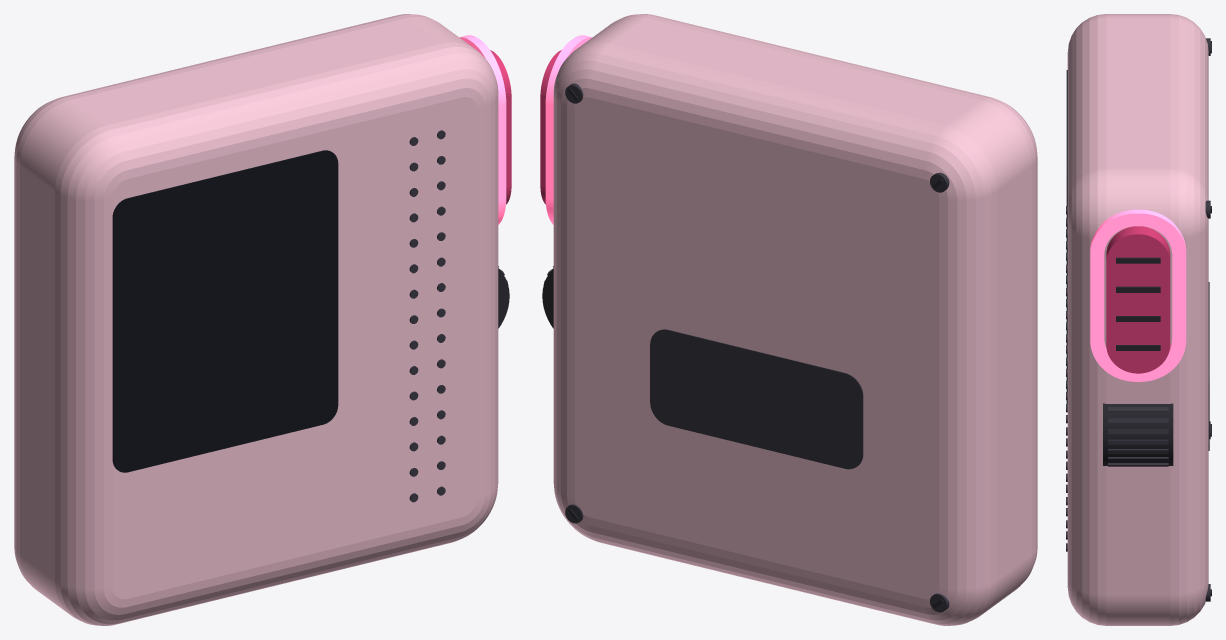
File: yoyopod-v2-bubblegum.glb
The picture shows the model from 3 angles, left to right: view 1: azimuth 30°, elevation 25°; view 2: azimuth 150°, elevation 25°; view 3: azimuth 270°, elevation 25°; orthographic projection. The views are drawn at different scales.
Visible parts, largest first — view 1: body, screen_window, ptt_glow_ring, ptt_cap; view 2: body, name_tag_recess, ptt_glow_ring, ptt_cap; view 3: body, ptt_cap, ptt_glow_ring, wheel_tire, ptt, screen_window, knurl_0, name_tag_recess, knurl_1, knurl_2, knurl_3, knurl_24 (+2 smaller).
Boxes of the visible parts, box(x1,y1,x2,y2) form: body: box(14, 14, 498, 625); screen_window: box(112, 150, 338, 472); ptt_glow_ring: box(459, 35, 506, 224); ptt_cap: box(490, 50, 511, 204); body: box(553, 14, 1037, 625); name_tag_recess: box(650, 329, 863, 469); ptt_glow_ring: box(545, 35, 592, 224); ptt_cap: box(540, 50, 561, 204); body: box(1067, 14, 1208, 625); ptt_cap: box(1106, 226, 1170, 373); ptt_glow_ring: box(1090, 209, 1186, 381); wheel_tire: box(1103, 403, 1173, 465); ptt: box(1116, 257, 1160, 350); screen_window: box(1066, 70, 1067, 403); knurl_0: box(1108, 439, 1168, 444); name_tag_recess: box(1208, 282, 1209, 450); knurl_1: box(1108, 429, 1168, 433); knurl_2: box(1108, 418, 1168, 422); knurl_3: box(1108, 407, 1168, 411); knurl_24: box(1108, 457, 1168, 461).
Size of the model in its own units: 0.0754 by 0.0783 by 0.0228.
